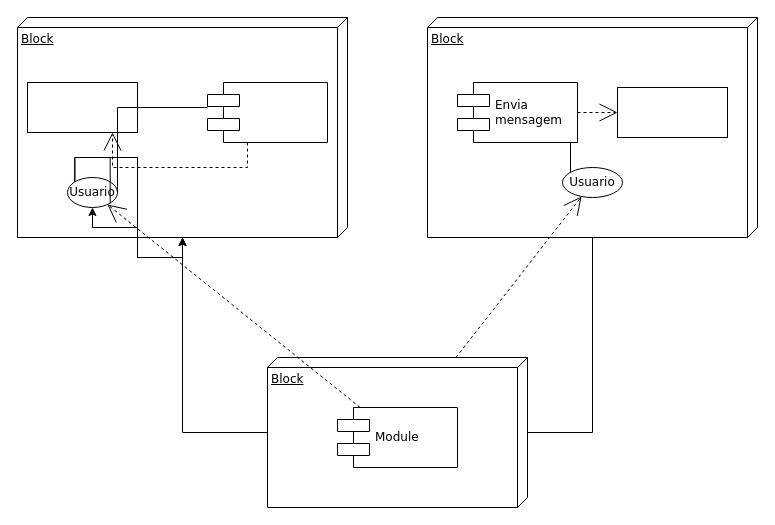
This 775x525 diagram has some shape labels left out. The box of each missing label's shape, as (x1, y1, x2, y2) in pixels:
Busca de modalidade: (26, 82, 138, 132)
Busca local para jogar: (616, 86, 728, 138)
Visualiza Praticantes: (206, 82, 328, 142)
